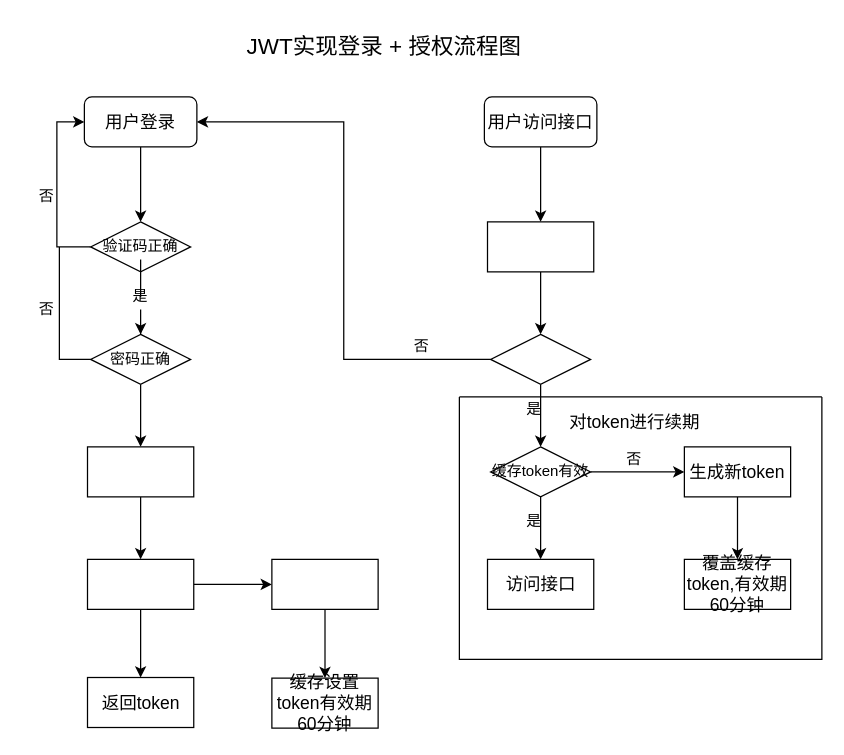
Image size: 844x755. Some labels were removed from this diagram. Each missing label, with the centre of its shape:
"token合法" goes at [540,358].
"token拦截器" goes at [540,246].
"查询用户角色列表" goes at [140,471].
"生成token" goes at [140,583].
"设置有效期30分钟" goes at [324,583].
